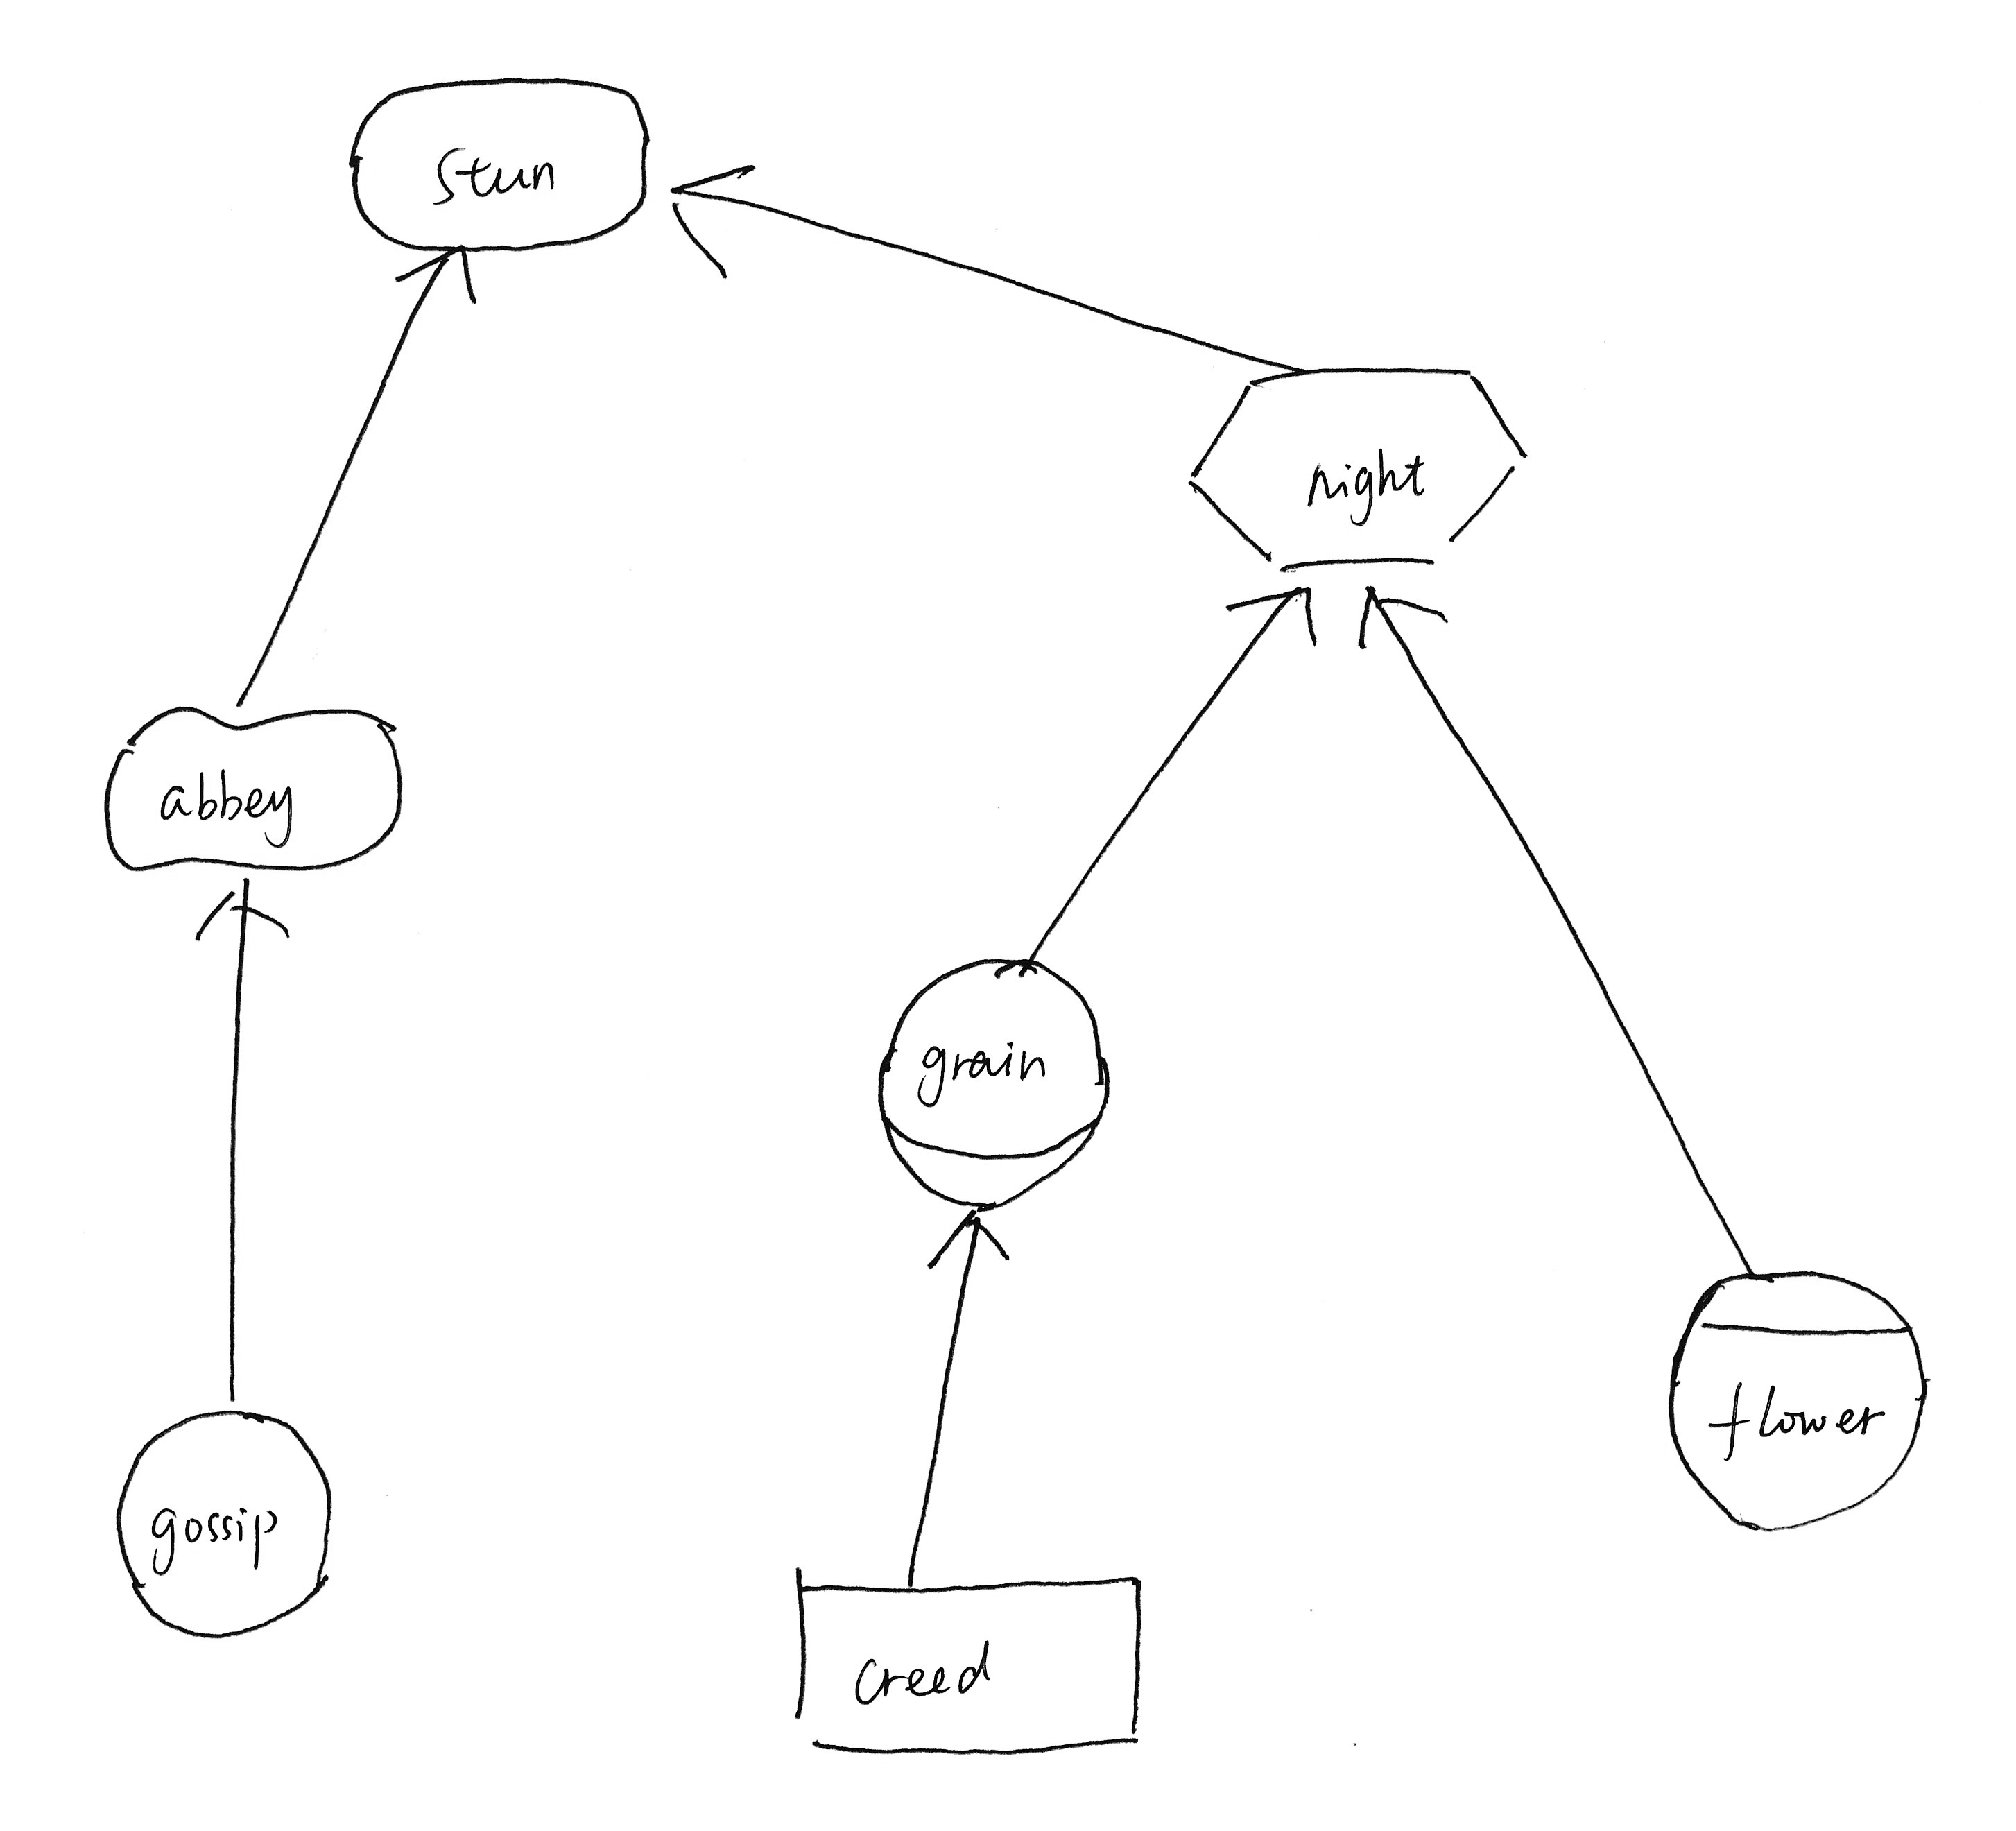actor: (766, 1547, 1163, 1771), (84, 1394, 353, 1661)
agent: (1652, 1255, 1948, 1547)
arrow: (660, 146, 773, 297), (1345, 572, 1459, 671), (190, 865, 307, 955), (908, 1197, 1033, 1280), (1220, 569, 1326, 664), (386, 239, 492, 327)
goal: (332, 56, 667, 270)
quality: (76, 690, 425, 890)
role: (864, 936, 1122, 1220)
task: (1171, 344, 1540, 588)
